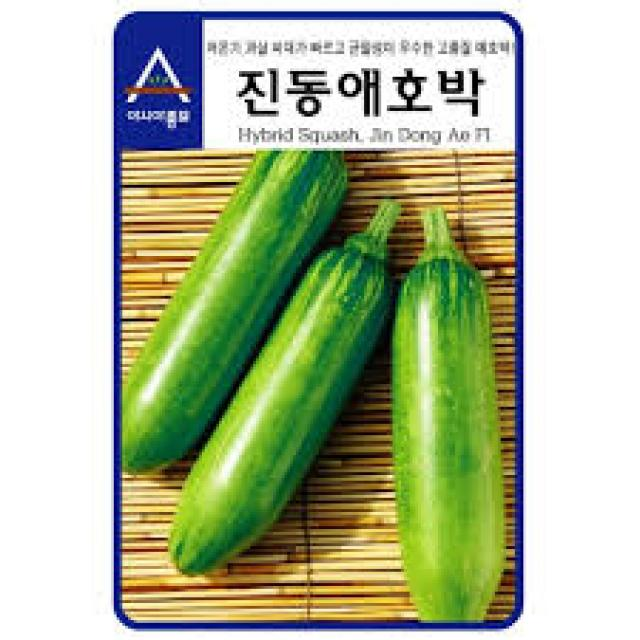Yogurt cup: (171, 202, 401, 576), (395, 208, 506, 624)
